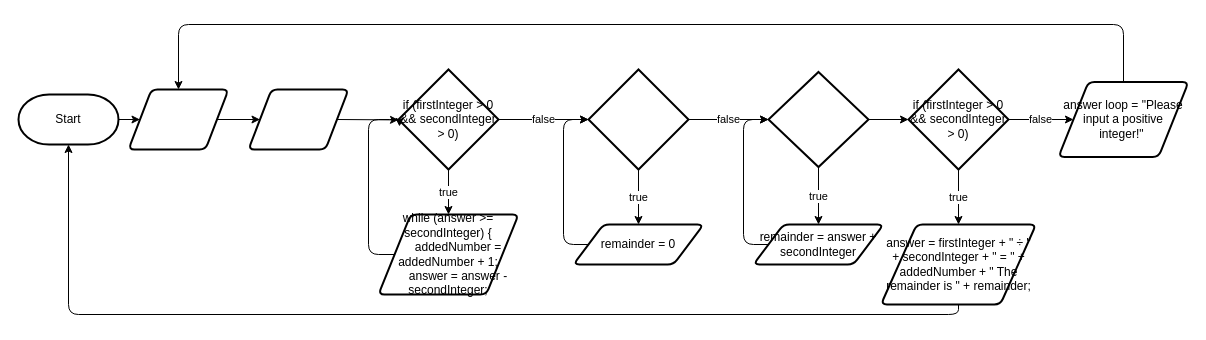
Image size: 1206x340. Some labels were removed from this diagram. Here are the shapes that lost their labels. From the top down, the box of each, then its label:
(127, 88, 229, 150): User inputs first integer
(247, 88, 349, 150): User inputs second integer
(587, 68, 689, 170): if (answer == 0)
(767, 70, 869, 168): else if (answer != 0)
